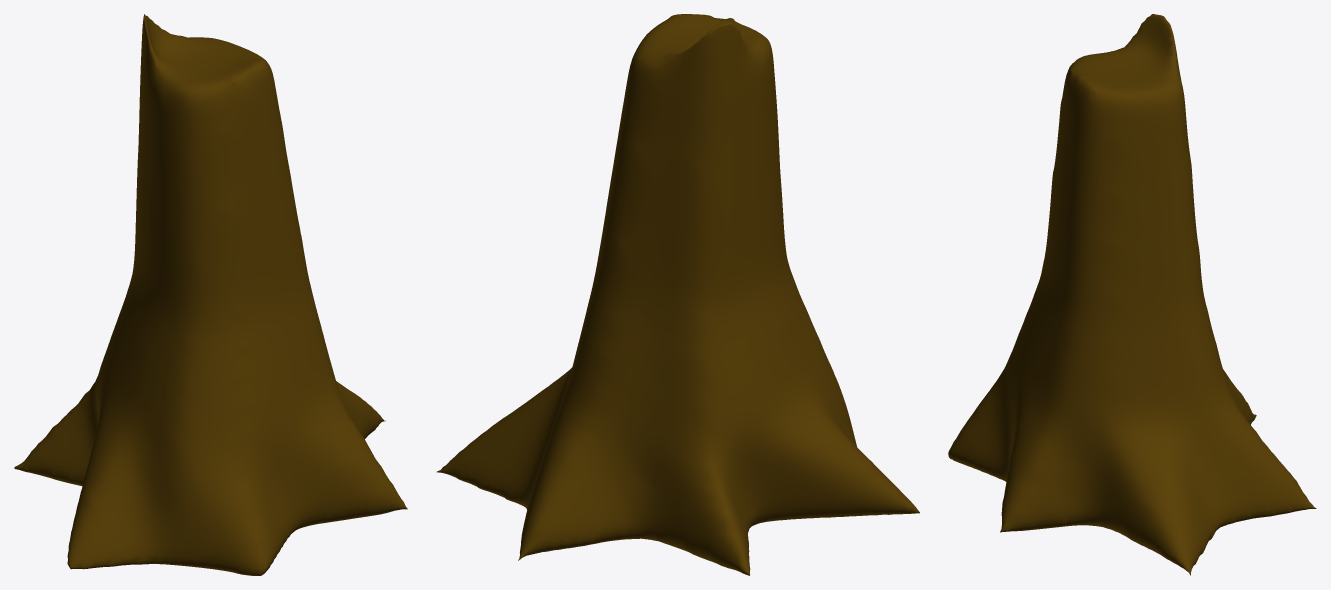
Rendered from Stump1.glb.
3 renders of one model, left to right at view 1: azimuth 30°, elevation 25°; view 2: azimuth 150°, elevation 25°; view 3: azimuth 270°, elevation 25°, orthographic. The views are drawn at different scales.
Visible parts, largest first — view 1: Stump1_wood; view 2: Stump1_wood; view 3: Stump1_wood.
Boxes of the visible parts, <box> form: Stump1_wood: <box>14,14,407,575</box>; Stump1_wood: <box>436,14,919,575</box>; Stump1_wood: <box>948,14,1316,575</box>.
Size of the model in its own units: 2.96 by 3.51 by 2.62.
